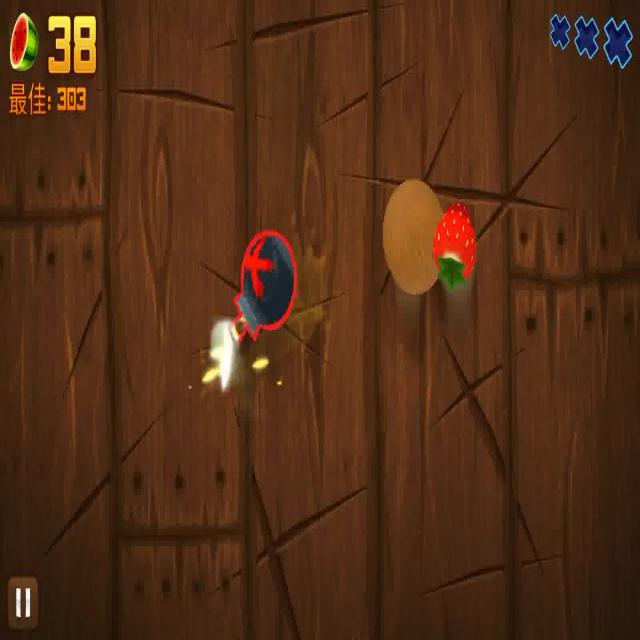bomb: (194, 204, 303, 397)
fruit: (376, 178, 436, 293), (430, 198, 478, 293)
